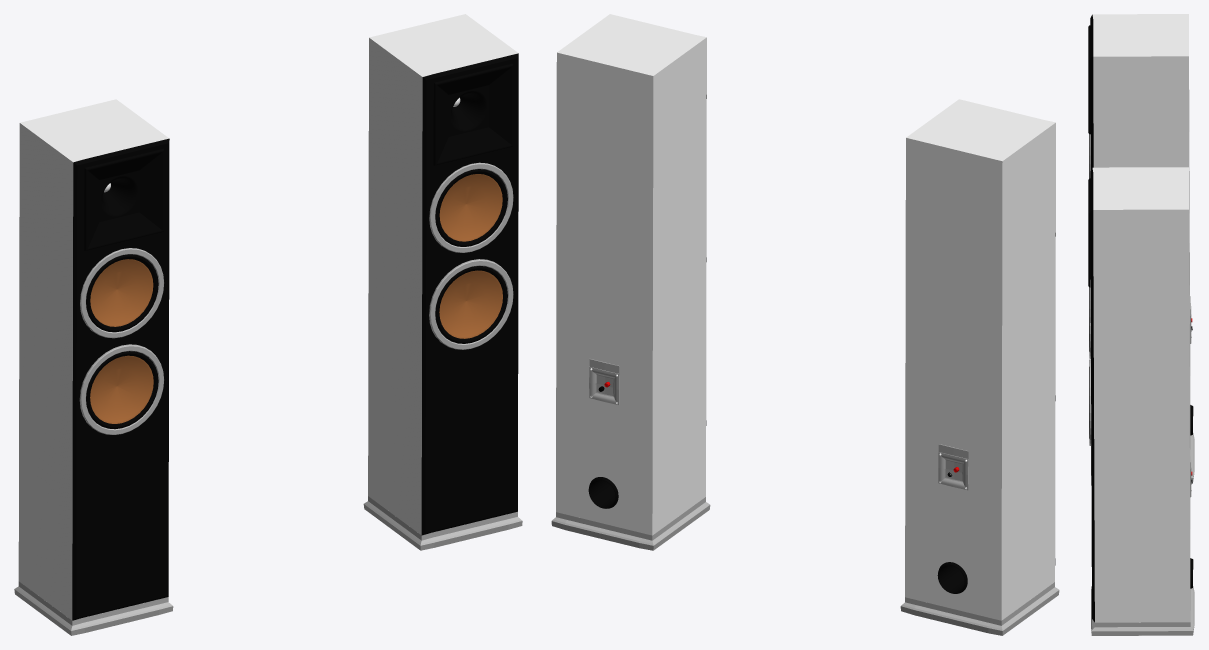
File: speaker_hq.glb
The picture shows the model from 3 angles, left to right: view 1: azimuth 30°, elevation 25°; view 2: azimuth 150°, elevation 25°; view 3: azimuth 270°, elevation 25°; orthographic projection. The views are drawn at different scales.
Visible parts, largest first — view 1: speaker_full__Cube.010, wood_speaker_Cube.001, tweeter_Cube.004, speaker_2_Cylinder.004, speaker_1_Cylinder.002; view 2: speaker_full__Cube.010, wood_speaker_Cube.001, borne_Cube.006, Bass_Reflex_Cylinder.006; view 3: wood_speaker_Cube.001, speaker_full__Cube.010, tweeter_Cube.004, speaker_2_Cylinder.004.
Boxes of the visible parts, x1,y1,x2,y2 form: speaker_full__Cube.010: (14, 99, 173, 635); wood_speaker_Cube.001: (363, 14, 522, 550); tweeter_Cube.004: (433, 63, 513, 165); speaker_2_Cylinder.004: (429, 259, 513, 349); speaker_1_Cylinder.002: (429, 162, 513, 252); speaker_full__Cube.010: (900, 99, 1059, 635); wood_speaker_Cube.001: (551, 14, 710, 550); borne_Cube.006: (589, 359, 619, 404); Bass_Reflex_Cylinder.006: (588, 477, 618, 508); wood_speaker_Cube.001: (1090, 167, 1194, 635); speaker_full__Cube.010: (1088, 14, 1194, 481); tweeter_Cube.004: (1088, 178, 1090, 287); speaker_2_Cylinder.004: (1089, 359, 1091, 445).
Bounding box in the file's own units: 18.51 × 18.55 × 4.19.
